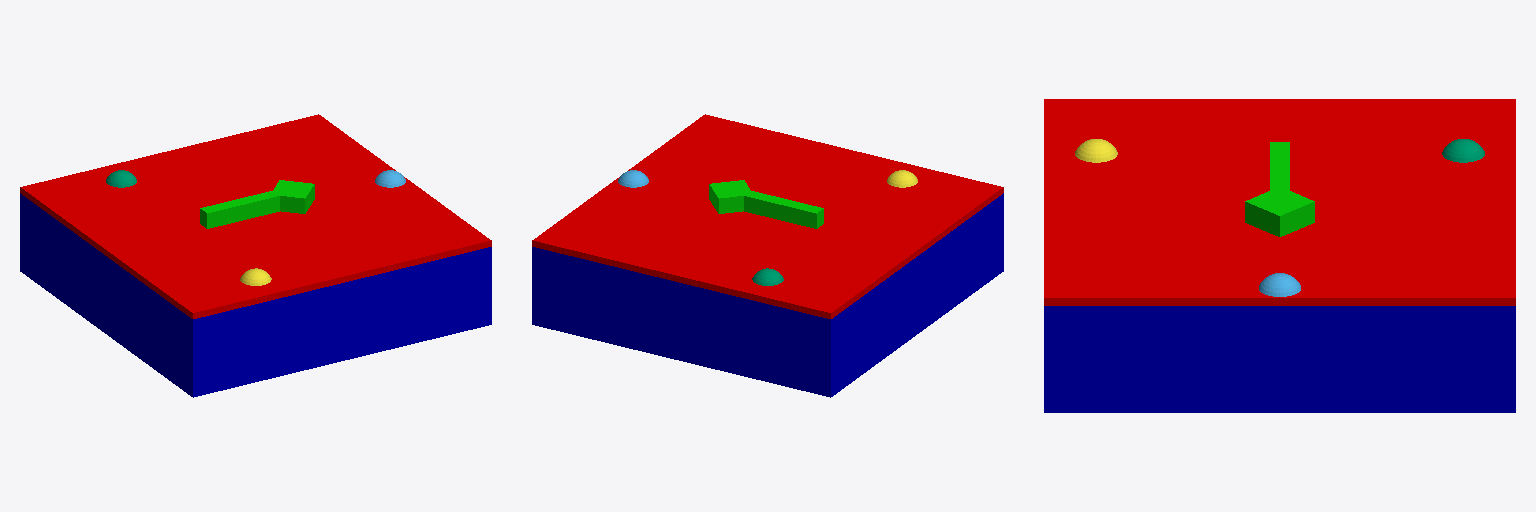
robot.urdf — box:
<?xml version="1.0"?>
<robot name="box">

  <properties> 
    mass="0.4" 
    size_x="0.2" 
    size_y="0.2" 
    size_z="0.05"
    drag_coeff_x="-0.006431250000000002" 
    drag_coeff_y="-0.006431250000000002" 
    drag_coeff_z="-0.02572500000000001"
    attachment_points="[[0.09000000000000001, 0.0], [-0.044999999999999984, 0.07794228634059949], [-0.04500000000000005, -0.07794228634059946]]"
  </properties>

  <material name="payload_body">
    <color rgba="0.0 0.0 0.8 1.0"/>
  </material>
  <material name="payload_panel">
    <color rgba="0.9 0.0 0.0 1.0"/>
  </material>
  <material name="payload_arrow">
    <color rgba="0.05 0.85 0.05 1.0"/>
  </material>

  <link name="payload">

    <inertial>
      <origin xyz="0 0 0" rpy="0 0 0"/>
      <mass value="0.4"/>
      <inertia ixx="0.001416666666666667" ixy="0" ixz="0" iyy="0.001416666666666667" iyz="0" izz="0.002666666666666667"/>
    </inertial>

    <visual name="body_visual">
      <origin xyz="0 0 0" rpy="0 0 0"/>
      <geometry>
        <box size="0.2 0.2 0.05"/>
      </geometry>
      <material name="payload_body"/>
    </visual>

    <collision>
      <origin xyz="0 0 0" rpy="0 0 0"/>
      <geometry>
        <box size="0.2 0.2 0.05"/>
      </geometry>
    </collision>

    <!-- Top panel: background plate for the direction arrow -->
    <visual name="top_panel_visual">
      <origin xyz="0 0 0.027000000000000003" rpy="0 0 0"/>
      <geometry>
        <box size="0.2 0.2 0.004"/>
      </geometry>
      <material name="payload_panel"/>
    </visual>

    <!-- Arrow shaft, pointing toward +x -->
    <visual name="arrow_shaft_visual">
      <origin xyz="-0.010499999999999999 0 0.034" rpy="0 0 0"/>
      <geometry>
        <box size="0.048999999999999995 0.0084 0.01"/>
      </geometry>
      <material name="payload_arrow"/>
    </visual>

    <!-- Arrow head: square box rotated 45 deg into a diamond, tip pointing toward +x -->
    <visual name="arrow_head_visual">
      <origin xyz="0.024499999999999997 0 0.034" rpy="0 0 0.785398"/>
      <geometry>
        <box size="0.020999999999999998 0.020999999999999998 0.01"/>
      </geometry>
      <material name="payload_arrow"/>
    </visual>

  </link>

  <link name="attach_0">
    <visual>
      <geometry><sphere radius="0.01"/></geometry>
      <material name="payload_planel"/>
    </visual>
  </link>
  <joint name="attach_0_joint" type="fixed">
    <parent link="payload"/>
    <child link="attach_0"/>
    <origin xyz="0.09000000000000001 0.0 0.025" rpy="0 0 0"/>
  </joint>
  <link name="attach_1">
    <visual>
      <geometry><sphere radius="0.01"/></geometry>
      <material name="payload_planel"/>
    </visual>
  </link>
  <joint name="attach_1_joint" type="fixed">
    <parent link="payload"/>
    <child link="attach_1"/>
    <origin xyz="-0.044999999999999984 0.07794228634059949 0.025" rpy="0 0 0"/>
  </joint>
  <link name="attach_2">
    <visual>
      <geometry><sphere radius="0.01"/></geometry>
      <material name="payload_planel"/>
    </visual>
  </link>
  <joint name="attach_2_joint" type="fixed">
    <parent link="payload"/>
    <child link="attach_2"/>
    <origin xyz="-0.04500000000000005 -0.07794228634059946 0.025" rpy="0 0 0"/>
  </joint>

</robot>

--- What the picture shows (computed from the rendered views, not written in the file) ---
The picture shows the robot from 3 angles, left to right: view 1: azimuth 30°, elevation 25°; view 2: azimuth 150°, elevation 25°; view 3: azimuth 270°, elevation 25°; orthographic projection.
Model box with 4 links and 3 joints (3 fixed), rooted at payload, posed all joints at 0.
Links seen in each view (by area): view 1: payload; view 2: payload; view 3: payload, attach_1, attach_2, attach_0.
Link boxes in pixels (x1=…): payload: x1=20, y1=114, x2=491, y2=397; payload: x1=532, y1=114, x2=1003, y2=397; payload: x1=1044, y1=99, x2=1515, y2=412; attach_1: x1=1442, y1=139, x2=1484, y2=162; attach_2: x1=1075, y1=139, x2=1117, y2=162; attach_0: x1=1259, y1=273, x2=1300, y2=296.
Size in the robot's own frame: 0.2 by 0.2 by 0.064 metres.
Geometry: primitives only (box / cylinder / sphere), no mesh files.
